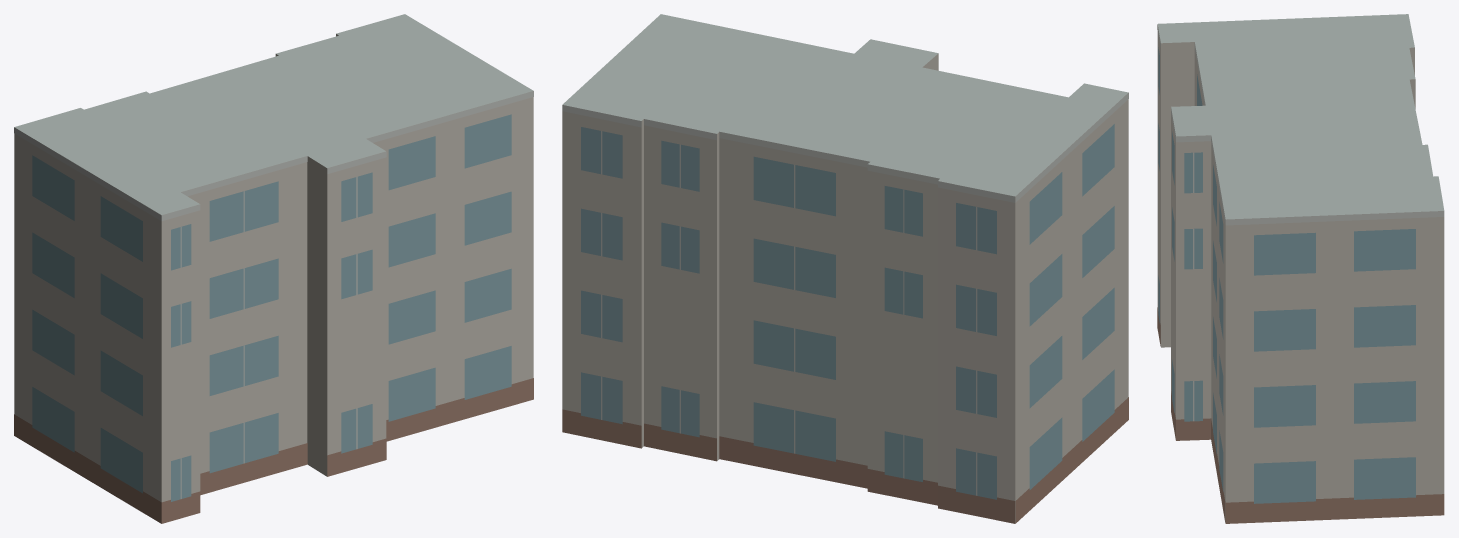
File: survey-upis-32906611.glb
The picture shows the model from 3 angles, left to right: view 1: azimuth 30°, elevation 25°; view 2: azimuth 150°, elevation 25°; view 3: azimuth 270°, elevation 25°; orthographic projection. The views are drawn at different scales.
Visible parts, largest first — view 1: survey-upis-32906611.tmp; view 2: survey-upis-32906611.tmp; view 3: survey-upis-32906611.tmp.
Part boxes in pixels (bbox=[...]): survey-upis-32906611.tmp: bbox=[14, 14, 533, 523]; survey-upis-32906611.tmp: bbox=[562, 14, 1128, 523]; survey-upis-32906611.tmp: bbox=[1157, 14, 1444, 523].
Bounding box in the file's own units: 18.02 × 12.44 × 10.63.
